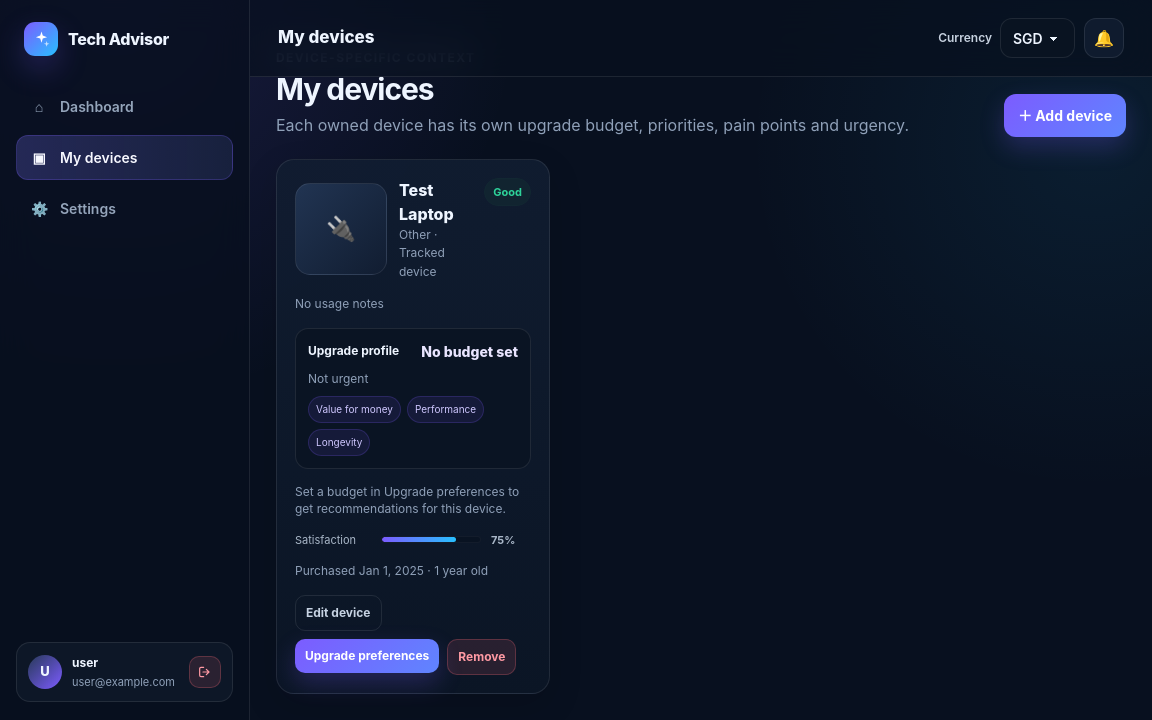
Test: DevicesPageTest › keeps the upgrade profile open when the backend rejects the budget
(page scrolled)
Expected: the heading "Test Laptop" is shown, [399, 180, 454, 224]
Click the button "Upgrade preferences": (367, 656) [295, 639, 439, 673]
(page scrolled)
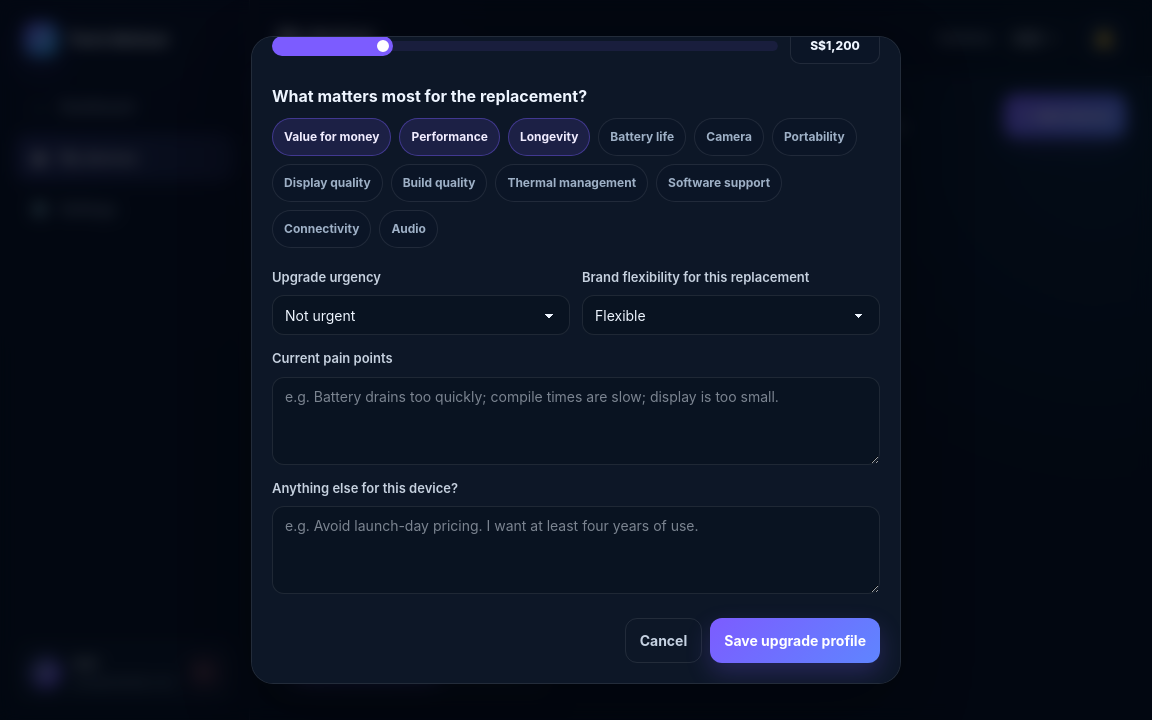
Click the button "Save upgrade profile": (795, 641) [710, 618, 880, 663]
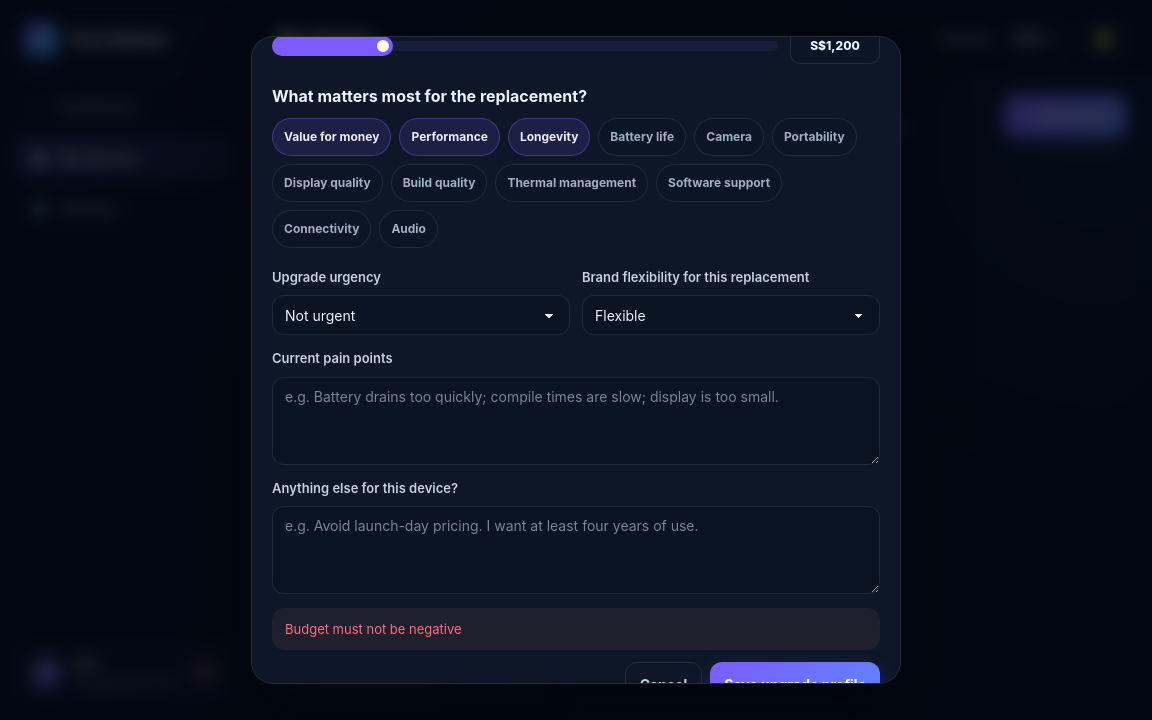
Result: the text "Budget must not be negative" is shown at [272, 608, 880, 650]
